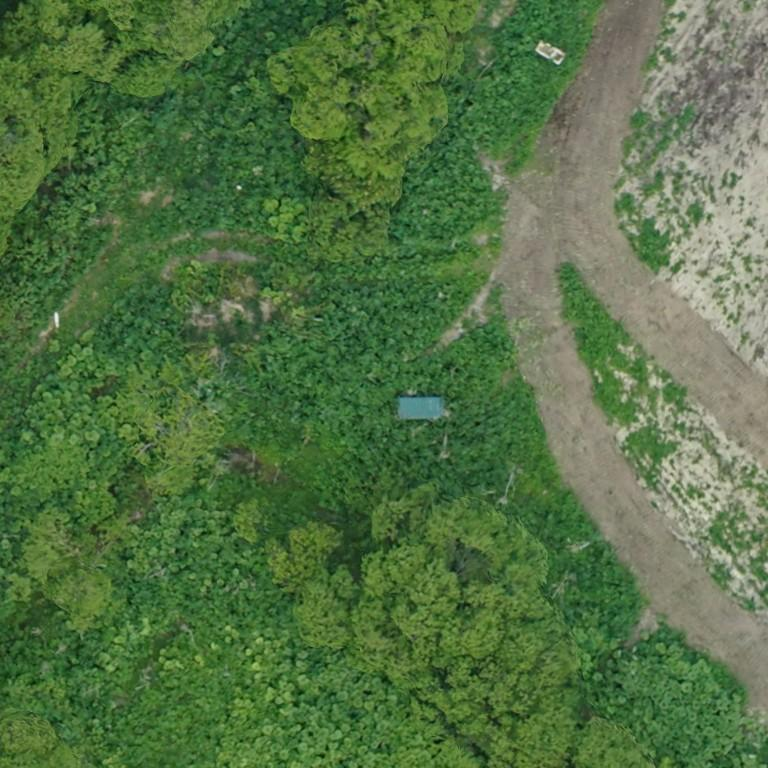hogweed: (253, 258, 534, 494), (390, 0, 602, 243), (158, 83, 302, 228), (524, 510, 642, 634), (560, 264, 647, 420), (93, 286, 169, 355), (641, 217, 668, 269)
